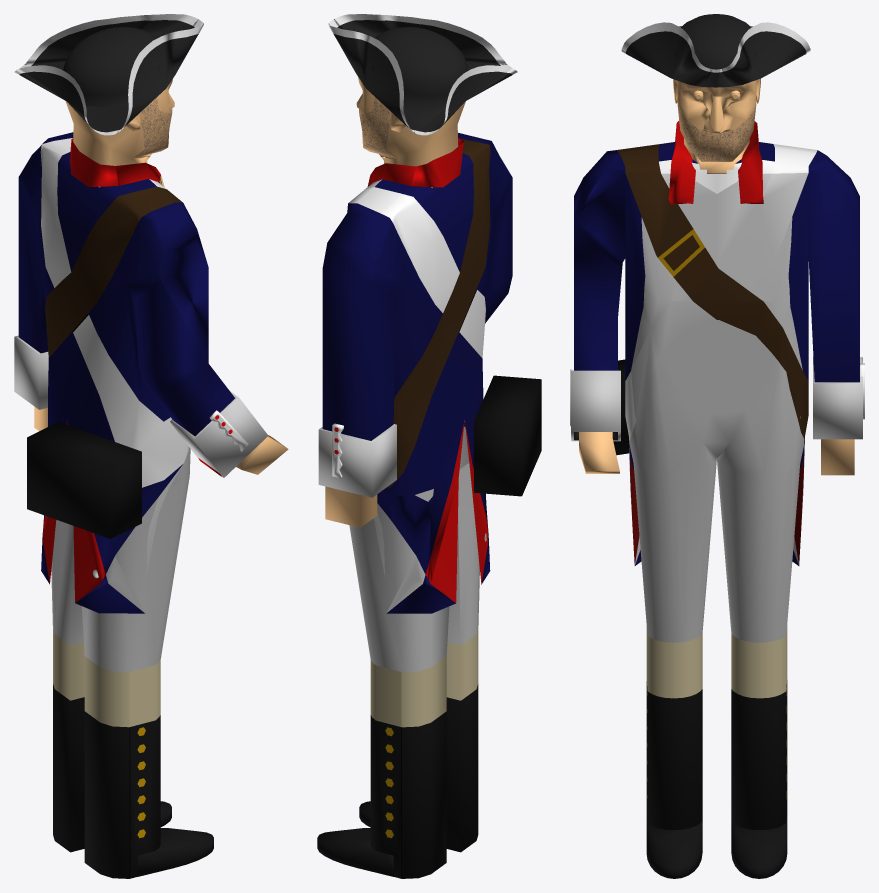
File: Adams 1.fbx
3 views of the same model, side by side, from view 1: azimuth 30°, elevation 25°; view 2: azimuth 150°, elevation 25°; view 3: azimuth 270°, elevation 25° (orthographic).
Parts seen in each view (by area): view 1: Group2, Group13, Group6, Group11, Group16, Group7, Group14, Group1; view 2: Group2, Group16, Group6, Group11, Group13, Group7, Group17, Group1, Group5; view 3: Group2, Group16, Group13, Group6, Group7, Group1, Group17, Group14, Group11.
Part boxes in pixels (x1=…): Group2: x1=14, y1=132, x2=288, y2=671; Group13: x1=84, y1=656, x2=160, y2=878; Group6: x1=14, y1=14, x2=203, y2=135; Group11: x1=27, y1=422, x2=141, y2=538; Group16: x1=53, y1=629, x2=84, y2=852; Group7: x1=65, y1=79, x2=174, y2=187; Group14: x1=137, y1=828, x2=213, y2=876; Group1: x1=69, y1=138, x2=164, y2=186; Group2: x1=318, y1=133, x2=512, y2=672; Group16: x1=370, y1=656, x2=446, y2=878; Group6: x1=328, y1=14, x2=517, y2=135; Group11: x1=474, y1=375, x2=541, y2=496; Group13: x1=446, y1=629, x2=478, y2=852; Group7: x1=356, y1=77, x2=465, y2=187; Group17: x1=317, y1=828, x2=393, y2=876; Group1: x1=367, y1=138, x2=464, y2=187; Group5: x1=332, y1=423, x2=343, y2=478; Group2: x1=571, y1=142, x2=862, y2=642; Group16: x1=731, y1=626, x2=787, y2=829; Group13: x1=646, y1=627, x2=702, y2=829; Group6: x1=621, y1=14, x2=810, y2=87; Group7: x1=673, y1=78, x2=760, y2=173; Group1: x1=668, y1=120, x2=763, y2=204; Group17: x1=731, y1=814, x2=787, y2=878; Group14: x1=646, y1=814, x2=702, y2=878; Group11: x1=613, y1=359, x2=629, y2=455.
Size of the model in its own units: 0.4683 by 1.77 by 0.5753.
